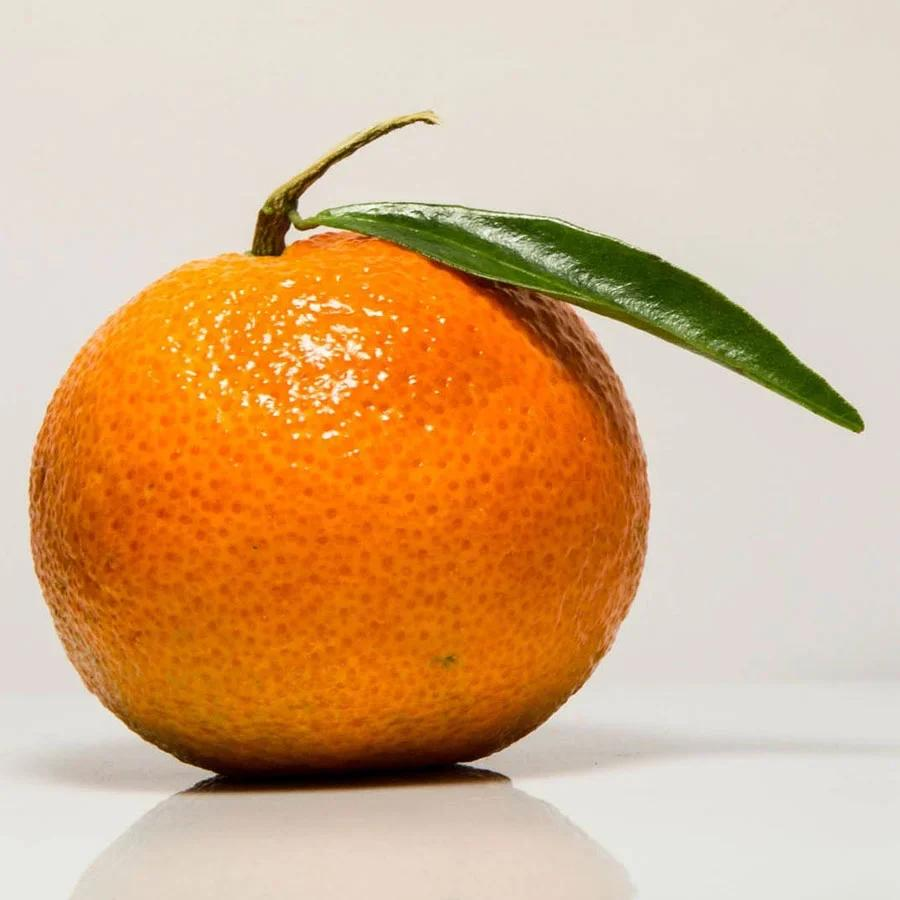non-mango: (27, 226, 652, 779)
